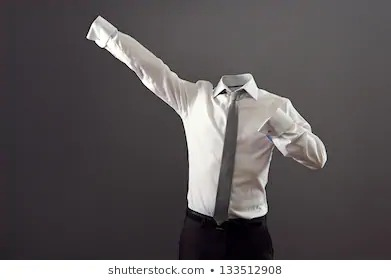F_belt: (190, 207, 273, 225)
F_shirt: (88, 11, 329, 216)
F_tie: (214, 90, 239, 224)
